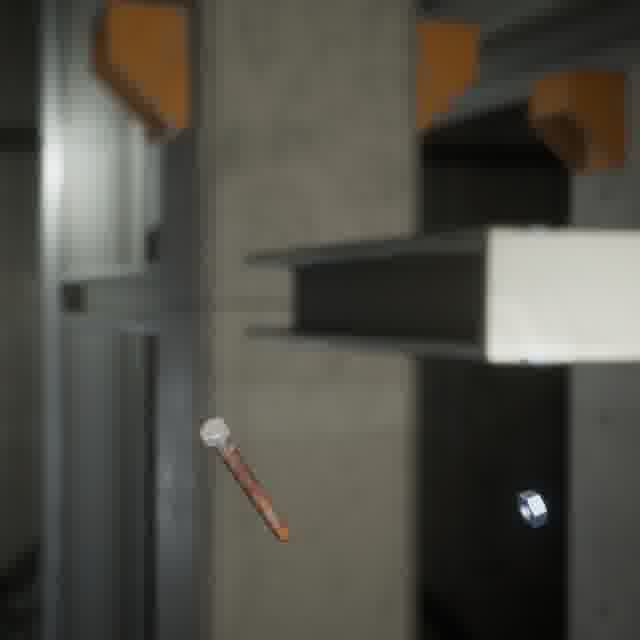bolt: (193, 412, 296, 546)
nut: (513, 485, 551, 532)
